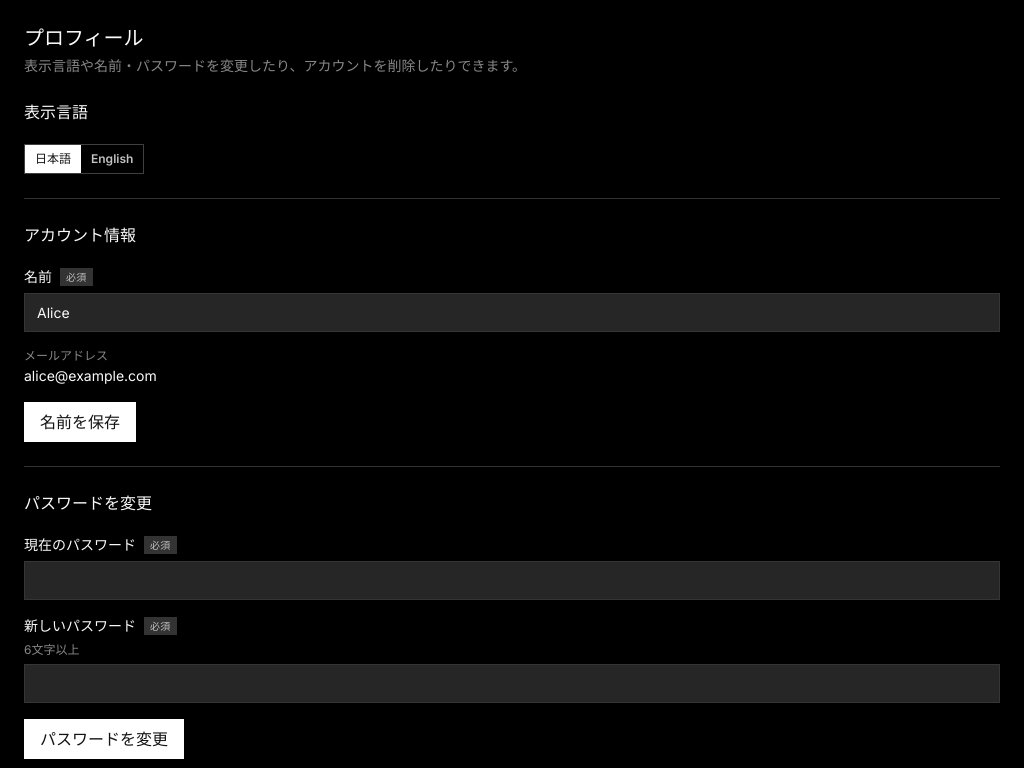
Test case: ProfilePage（パスワード変更） › 正しいパスワードなら成功トーストを出し、入力欄をクリアする
Expected: the field showing "Alice" is shown, [24,293,1000,332]
In the password field labelled "現在のパスワード 必須": (512, 580) [24,561,1000,600], type "password123"
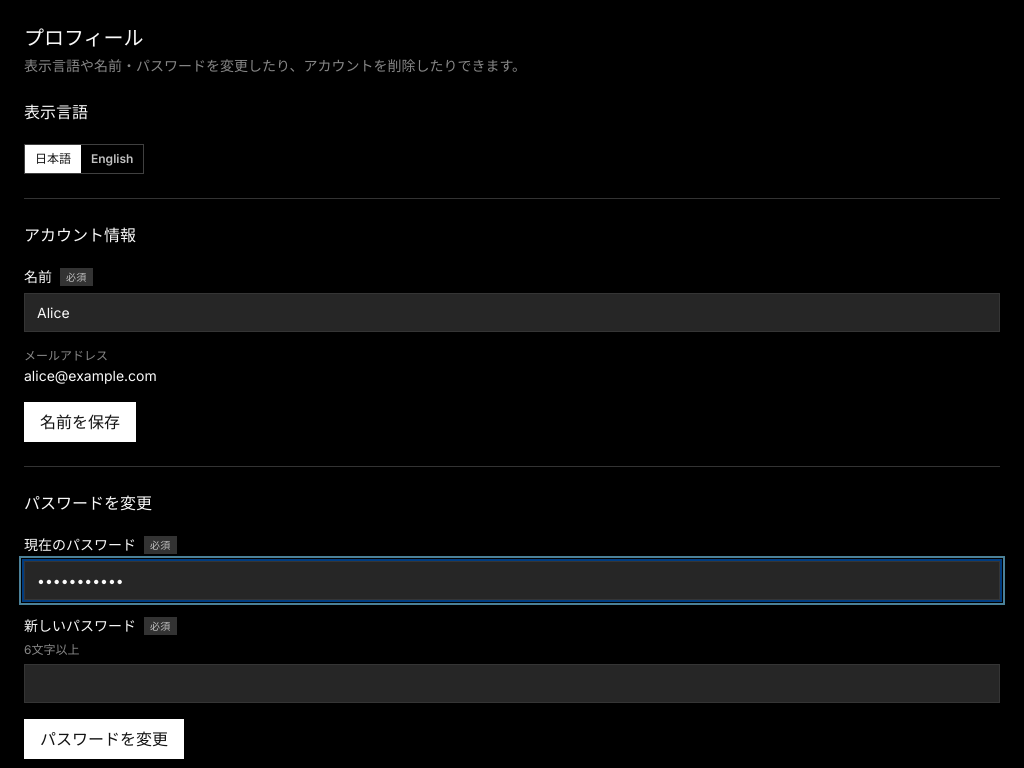
In the password field labelled "新しいパスワード 必須": (512, 684) [24,664,1000,703], type "newpassword456"
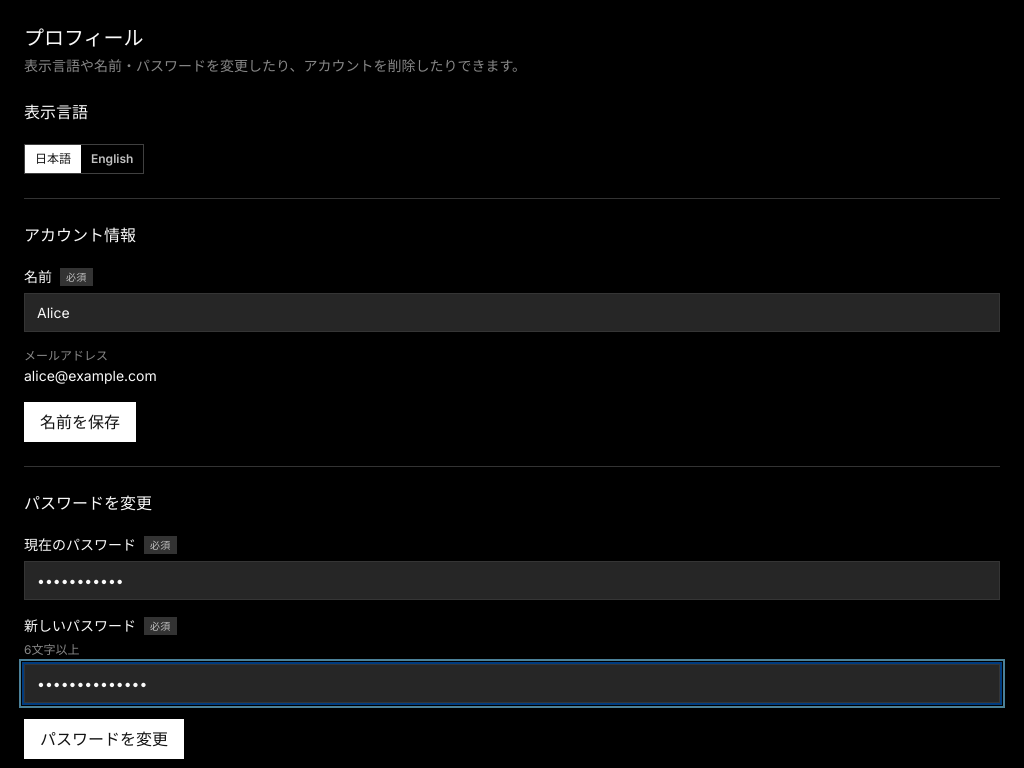
Click the button "パスワードを変更": (104, 739) [24,719,184,759]
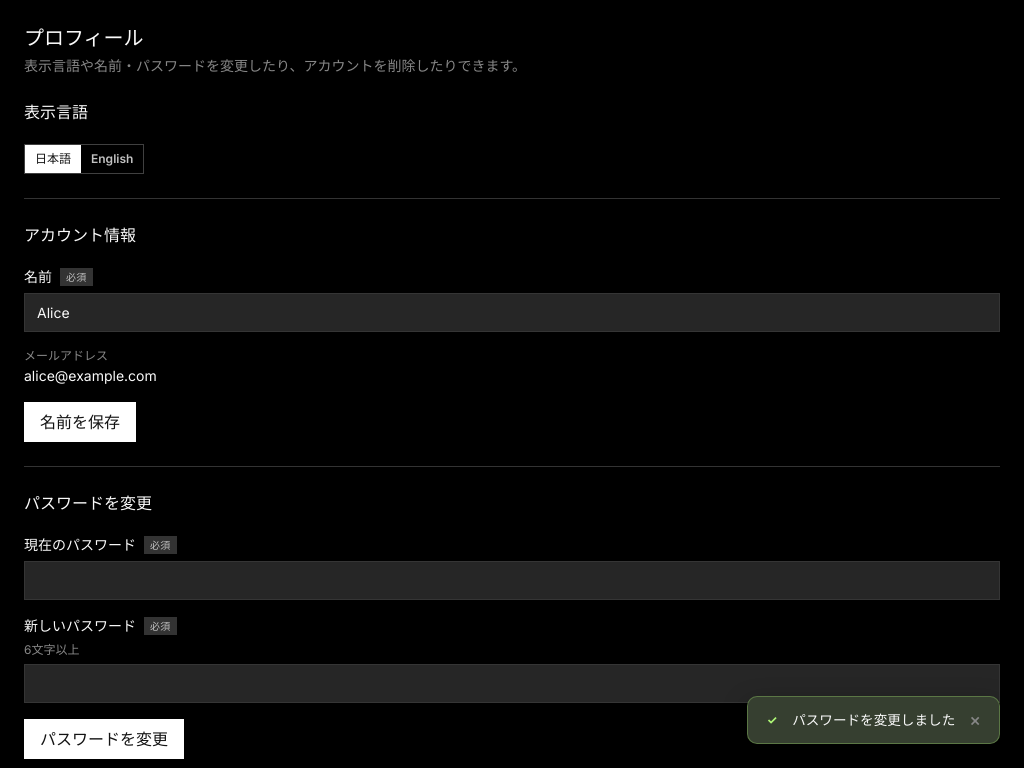
Expected: the text "パスワードを変更しました" is shown, [792,711,955,730]
Expected: the password field labelled "現在のパスワード 必須" is empty, [24,561,1000,600]
Expected: the password field labelled "新しいパスワード 必須" is empty, [24,664,1000,703]
